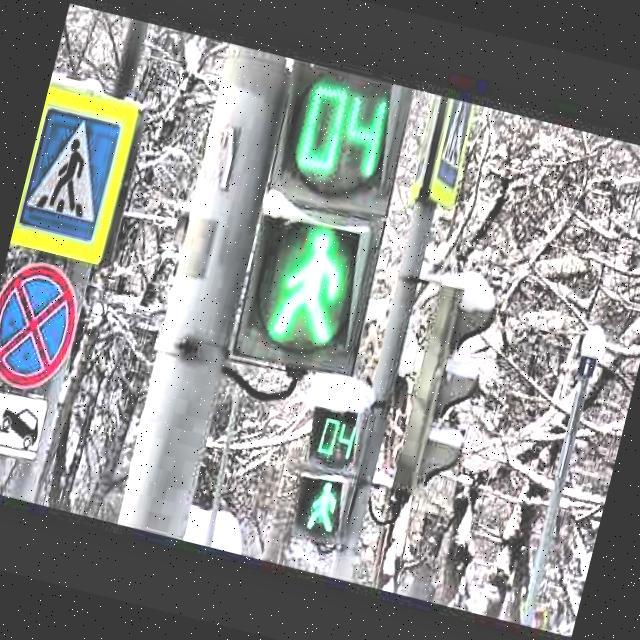green_light: (264, 220, 358, 354), (302, 474, 348, 539)
